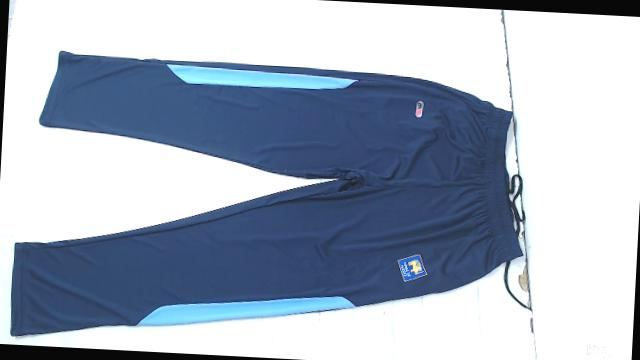new-garment: (10, 51, 521, 334)
